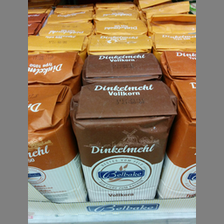flour: (75, 82, 176, 202), (29, 84, 86, 201)
